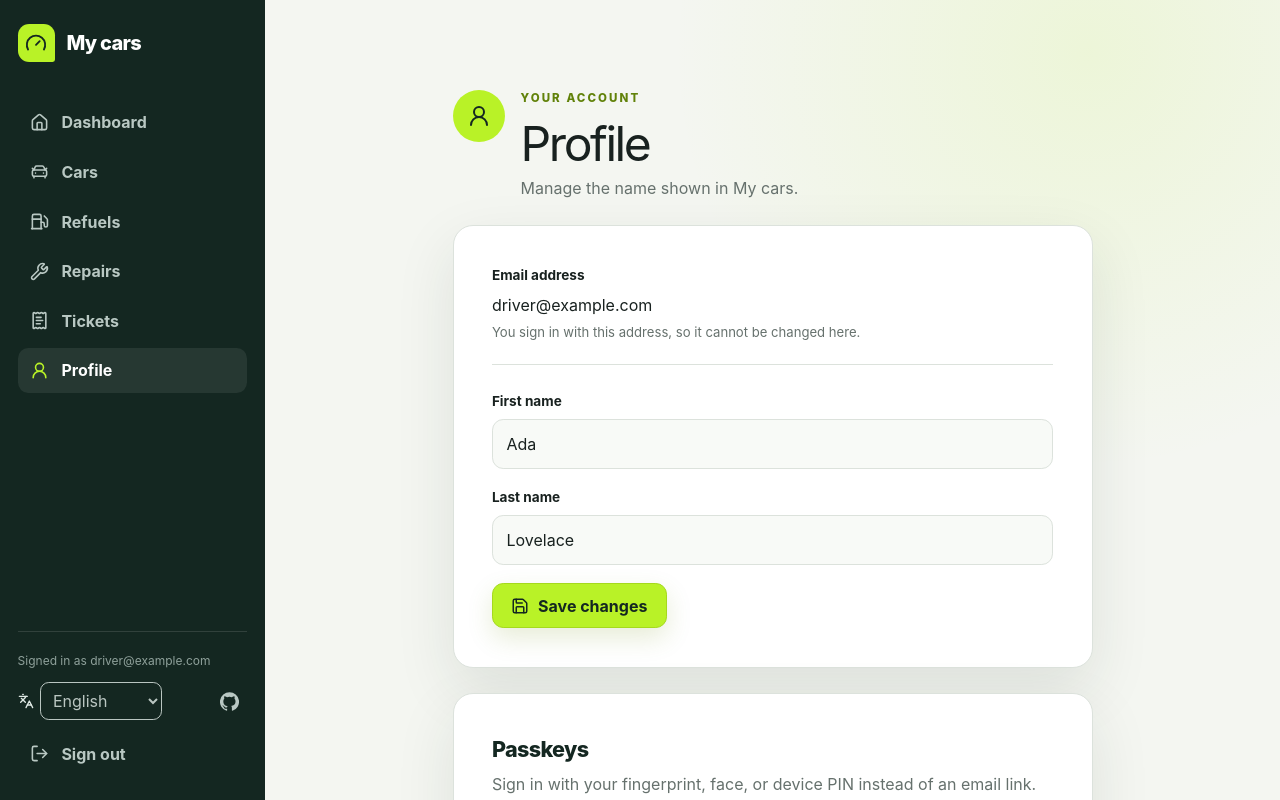
it: profile screen › saves only name fields and updates the session profile
Replace the text in the field labelled "First name" with "Grace" at (772, 444), box [506, 420, 1038, 468]
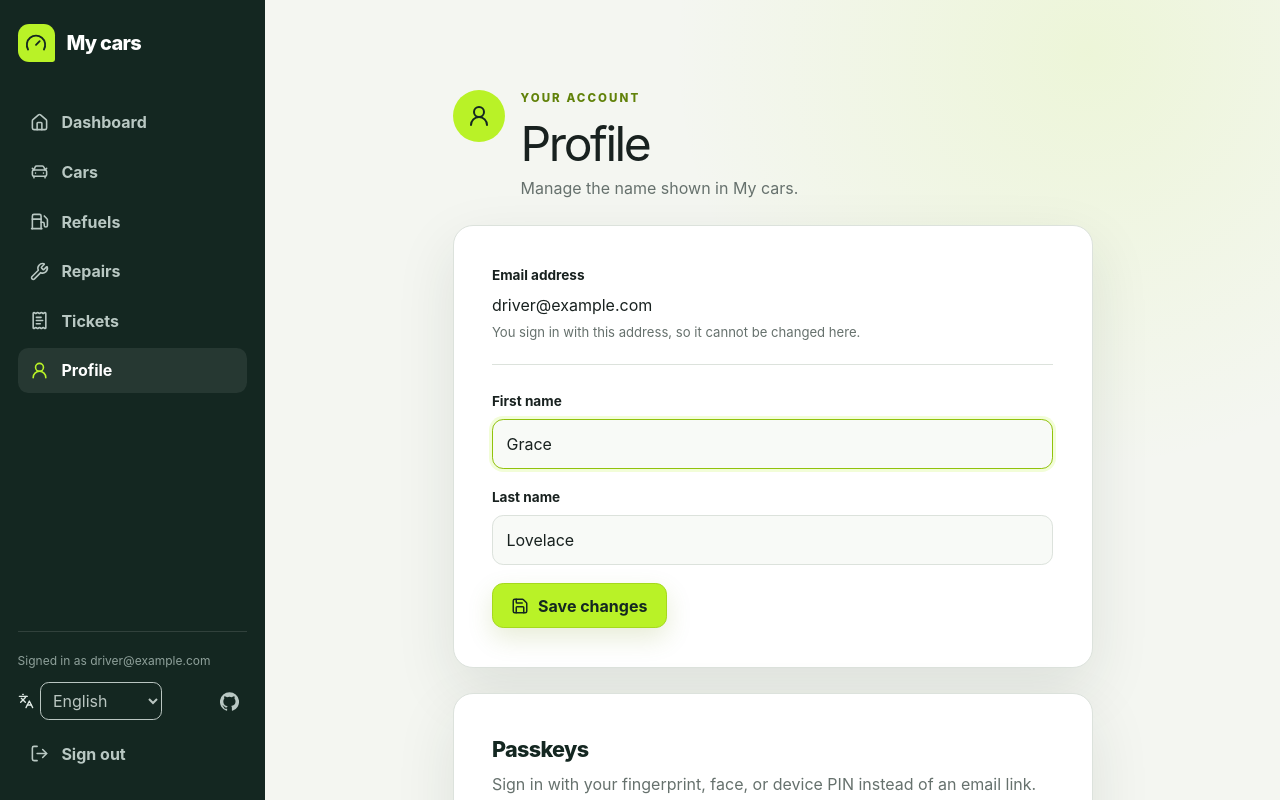
Click the button "Save changes" at (579, 606), box [492, 583, 667, 628]
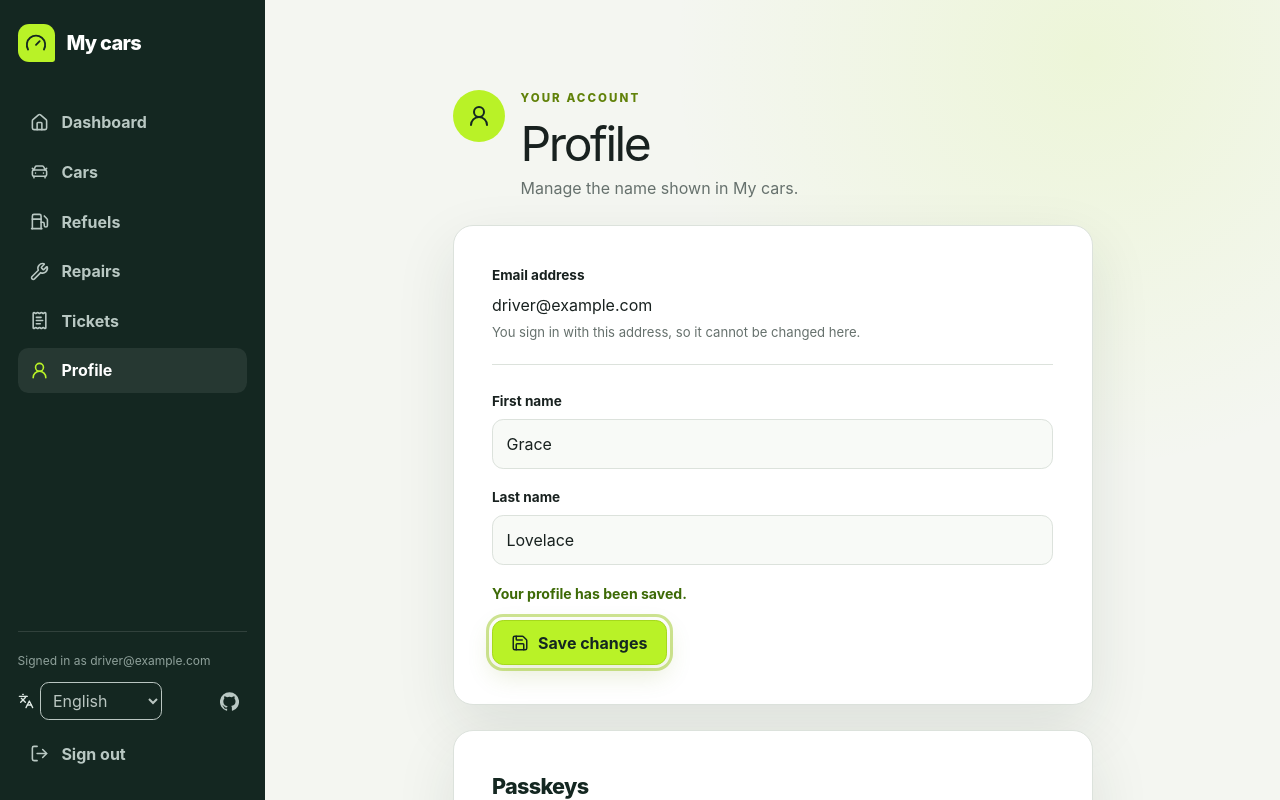
Expected: the text "Your profile has been saved." is shown, [492, 585, 687, 602]
